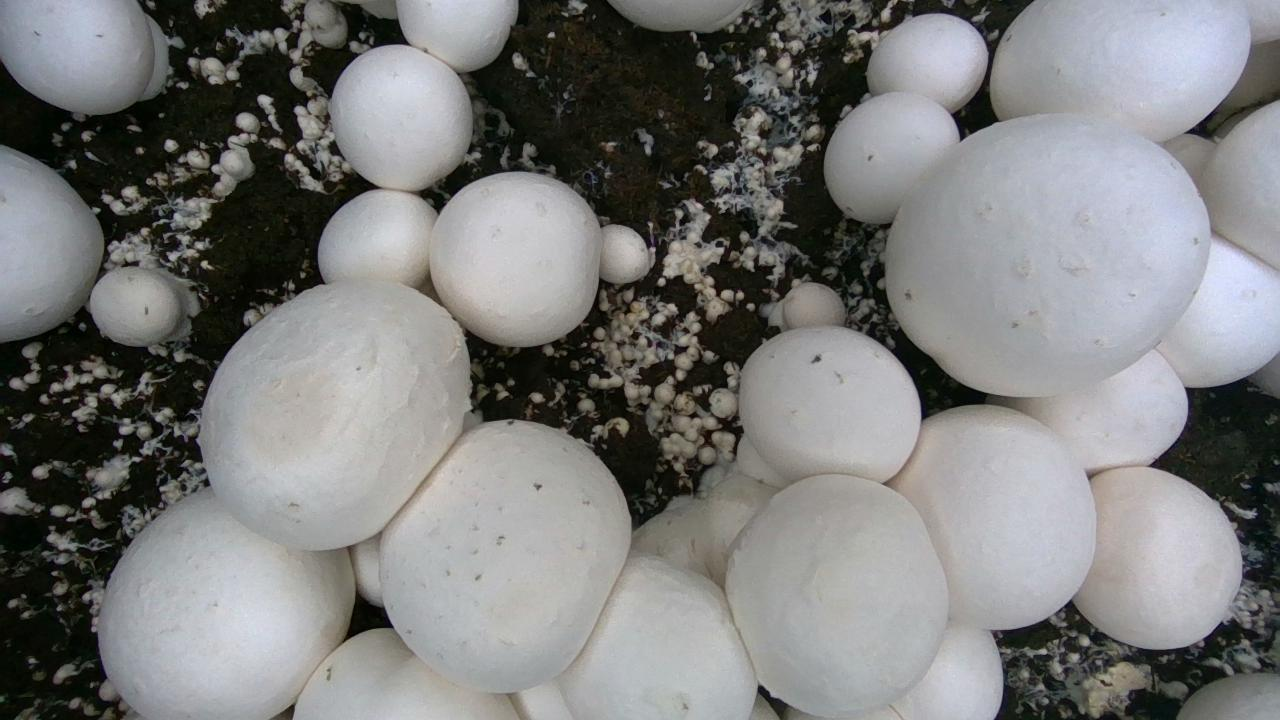WB: (886, 113, 1210, 396), (199, 280, 469, 549), (380, 420, 630, 691), (98, 488, 354, 718), (726, 474, 948, 716), (888, 405, 1095, 629), (990, 0, 1250, 141), (557, 555, 756, 719), (1074, 467, 1241, 649), (429, 172, 601, 346), (739, 326, 920, 482), (986, 350, 1187, 474), (330, 45, 472, 191), (294, 629, 518, 719), (1157, 234, 1279, 387), (824, 92, 959, 223), (1199, 100, 1279, 269), (866, 13, 988, 112), (318, 189, 436, 287), (892, 622, 1002, 719), (396, 0, 518, 71), (893, 330, 984, 417), (89, 267, 185, 346), (1177, 673, 1279, 719), (608, 0, 749, 32), (599, 224, 649, 283)
